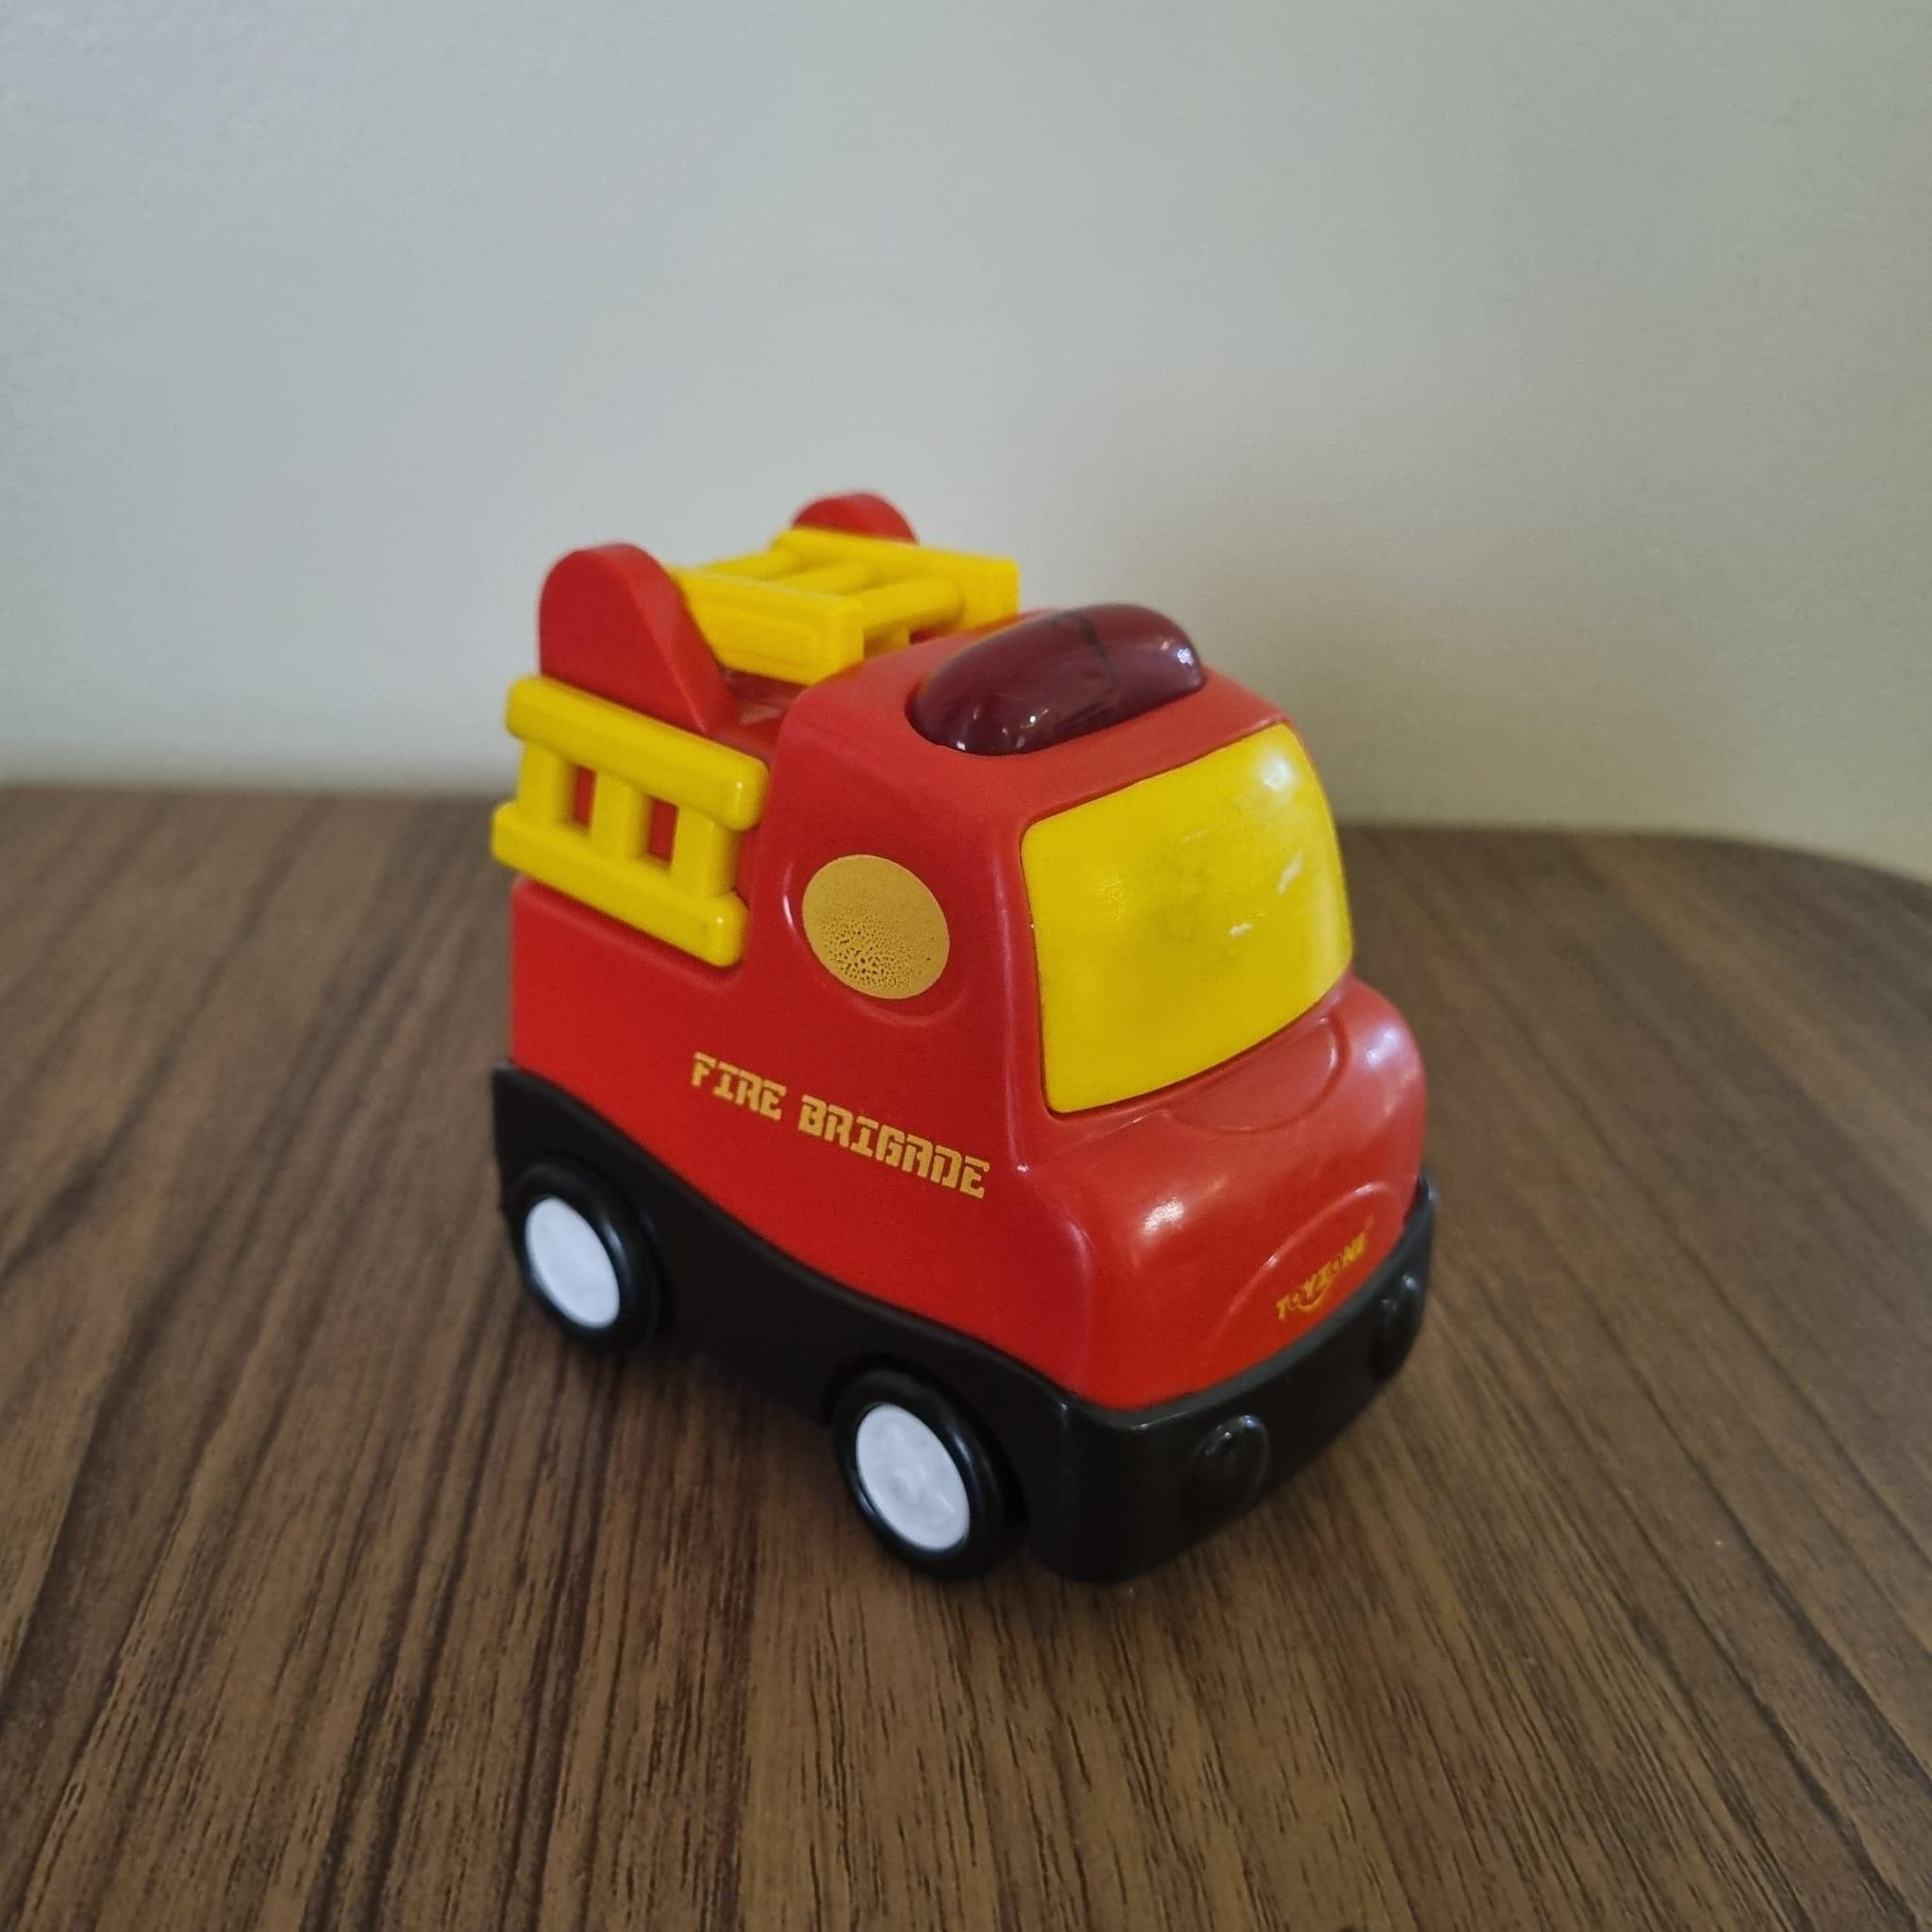firetruck_off: (501, 487, 1437, 1594)
